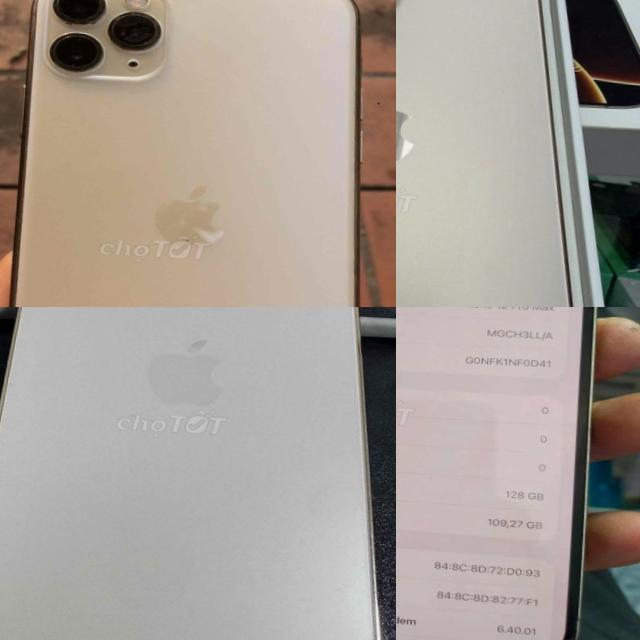gen_11: (1, 0, 385, 307)
gen_12_13: (0, 307, 396, 640), (396, 307, 608, 640)
gen_16: (396, 0, 626, 307)
